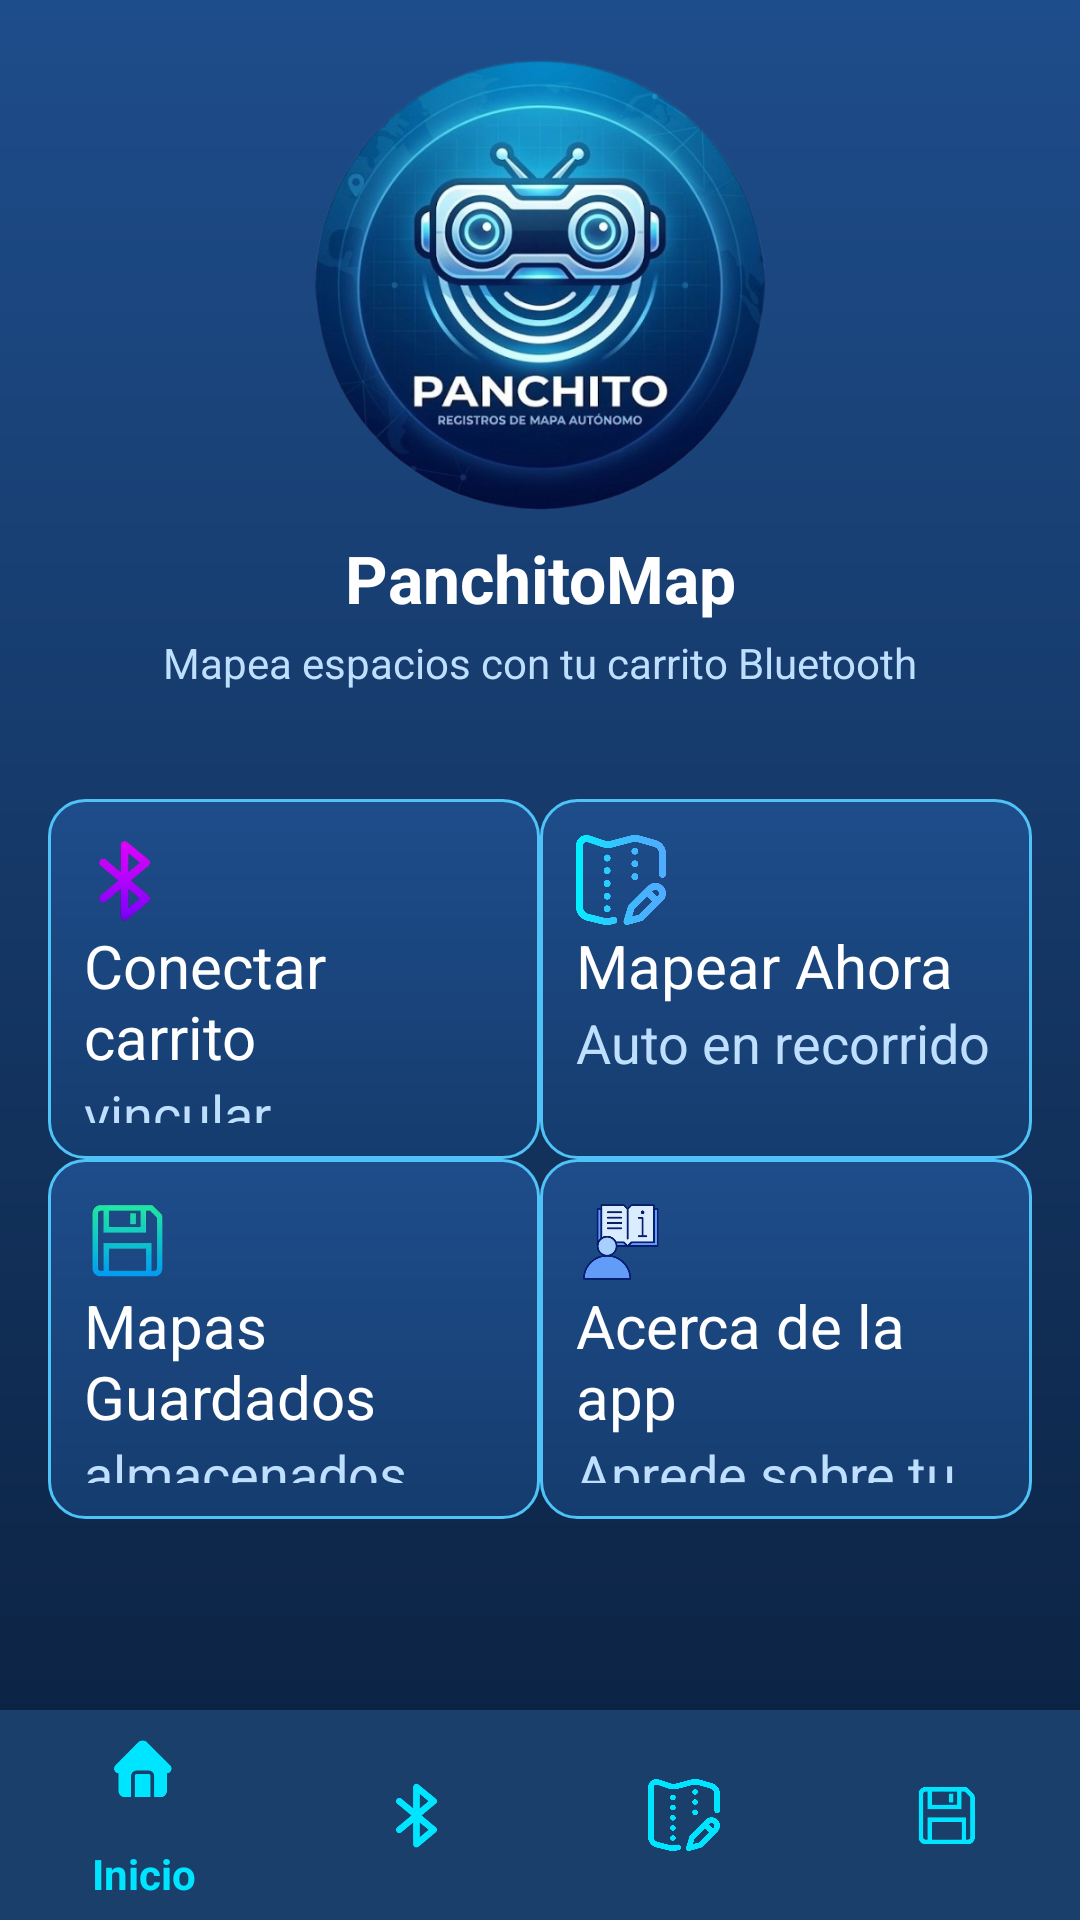

Icons on this 1080x1920 Android screen, each with the point to tap as [x,y]:
map: [621,880]
tutorial: [620,1242]
